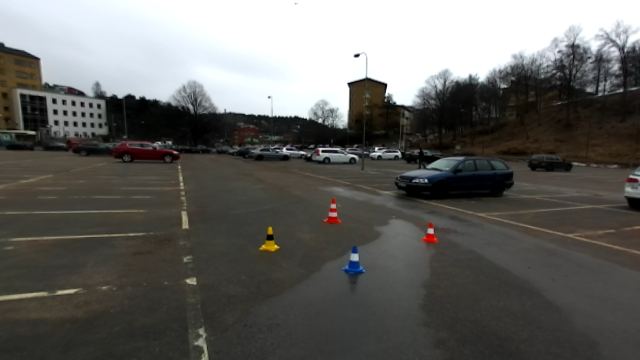blue: (342, 242, 367, 277)
orange: (420, 221, 440, 242)
orange2: (322, 196, 343, 225)
yellow: (257, 225, 281, 252)
